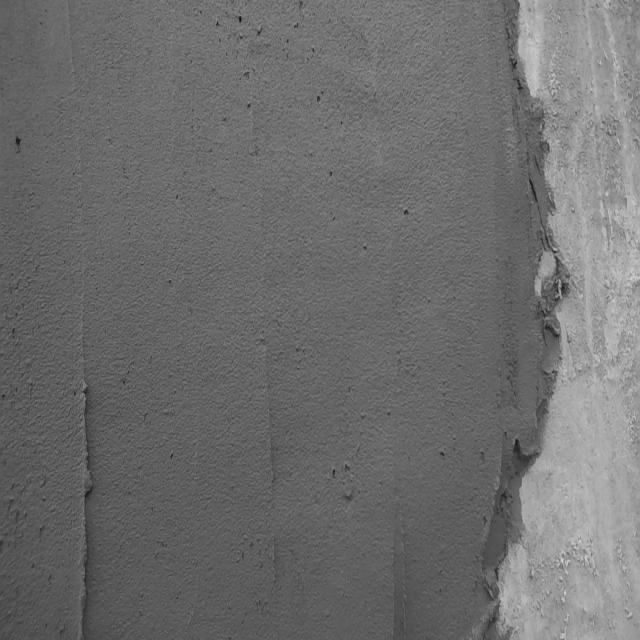trowels marks: (76, 311, 95, 640), (261, 351, 281, 595)
